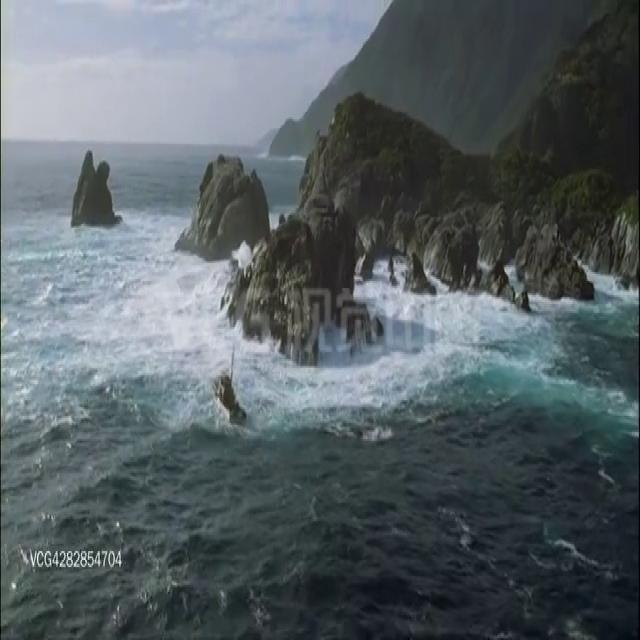houseboat: (209, 359, 248, 423)
